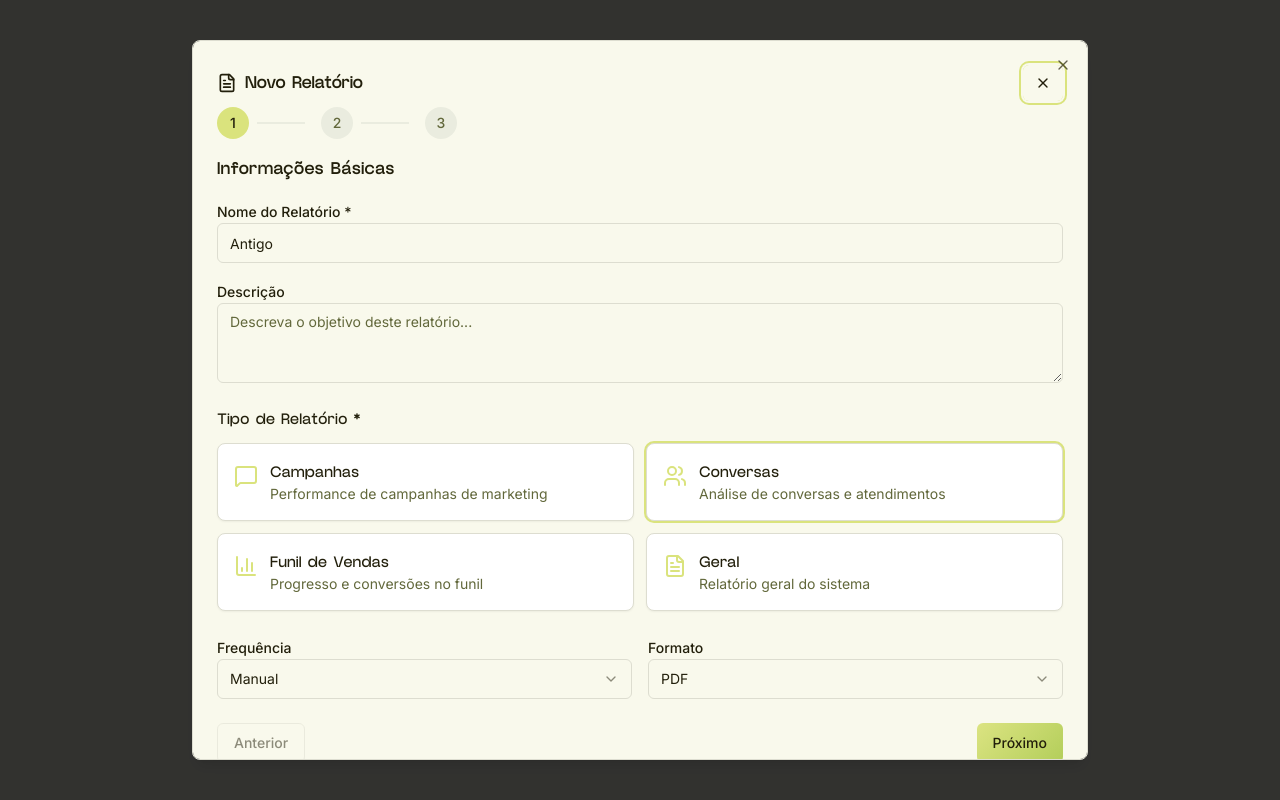
it: NewReportModal — o que vai no relatório › gerar a partir de um template antigo ignora as métricas inventadas gravadas nele
Click the button "Próximo" at (1020, 743), box x1=976 y1=723 x2=1063 y2=763
(page scrolled)
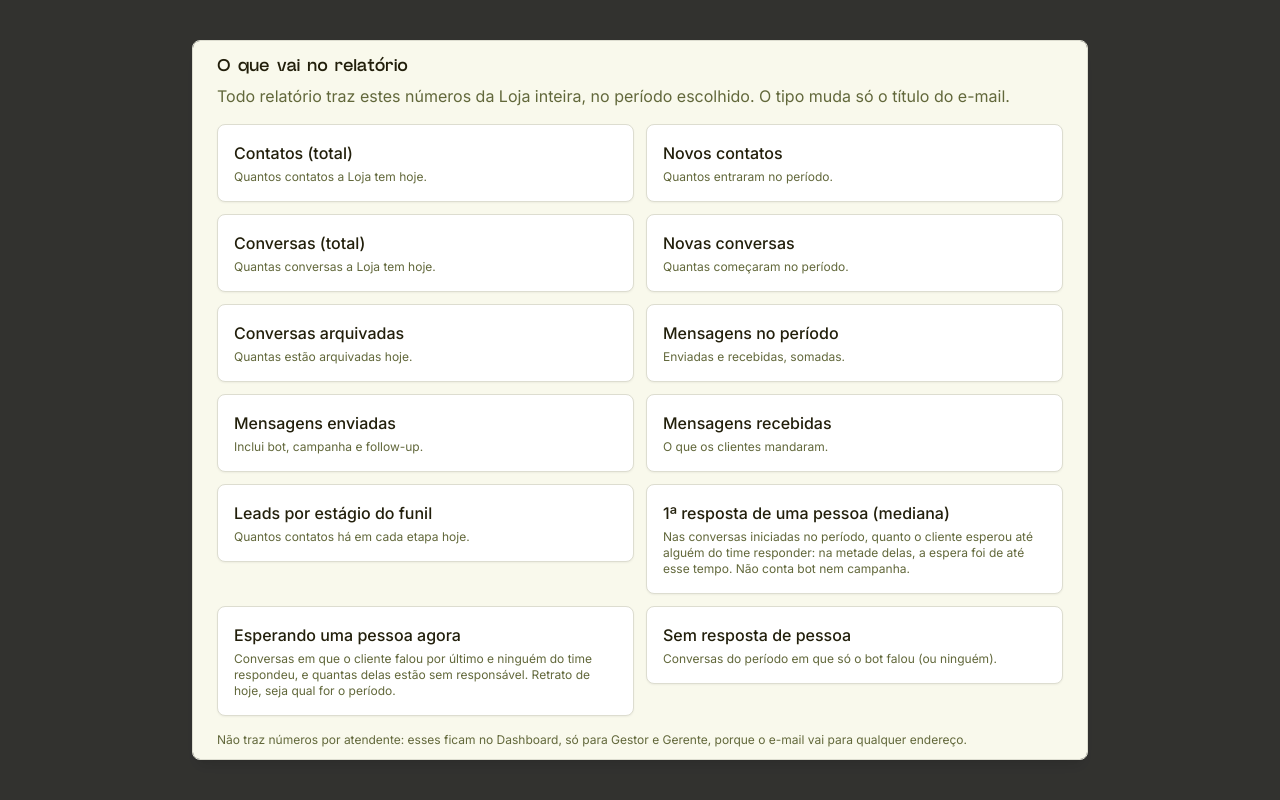
expect the element with test id "report-contents-step" is shown: met, box x1=217 y1=52 x2=1063 y2=748
